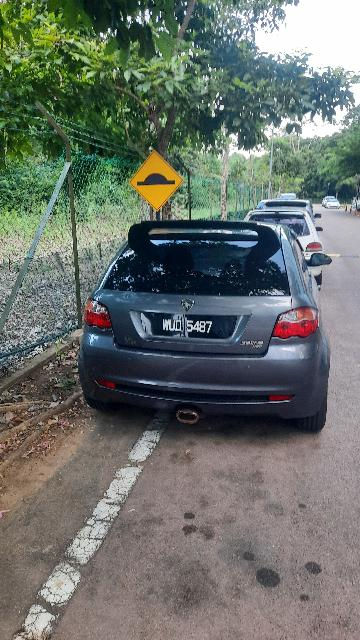License_Plate: (151, 310, 239, 344)
car: (78, 219, 336, 434)
